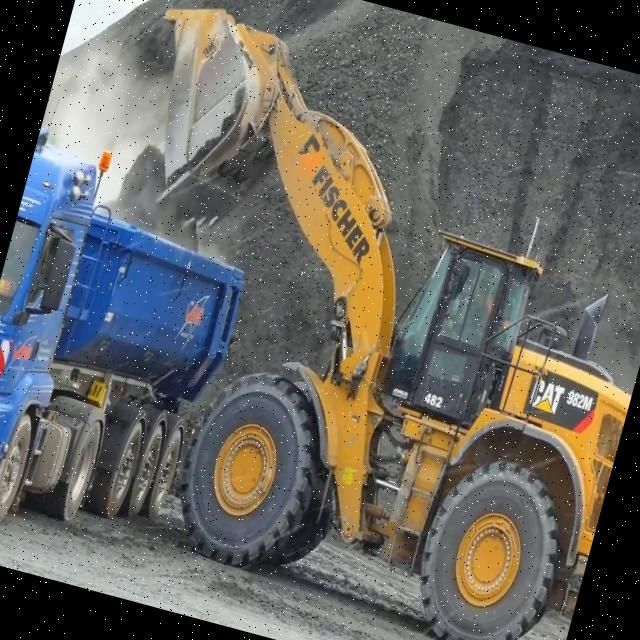Dump Truck: (0, 114, 273, 574)
Loader: (22, 0, 640, 640)
